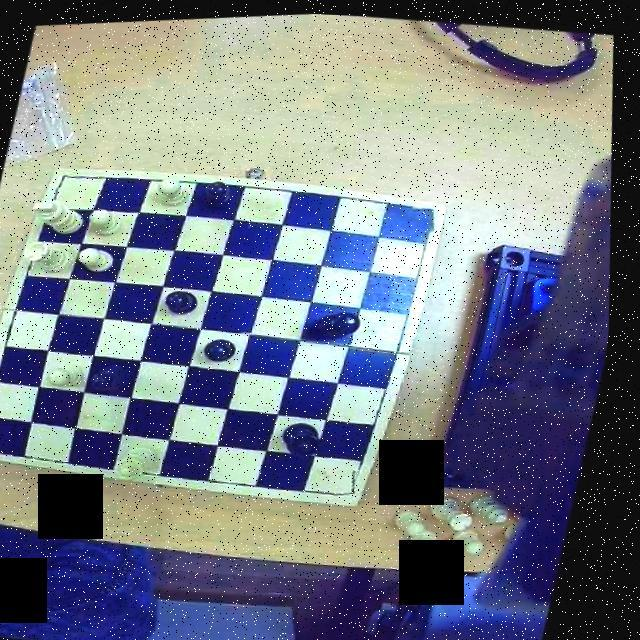chess-table-corners: (332, 462, 378, 502), (408, 193, 451, 232), (50, 164, 85, 195), (0, 428, 16, 462)
